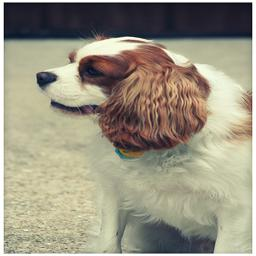dog: (62, 128, 256, 256)
